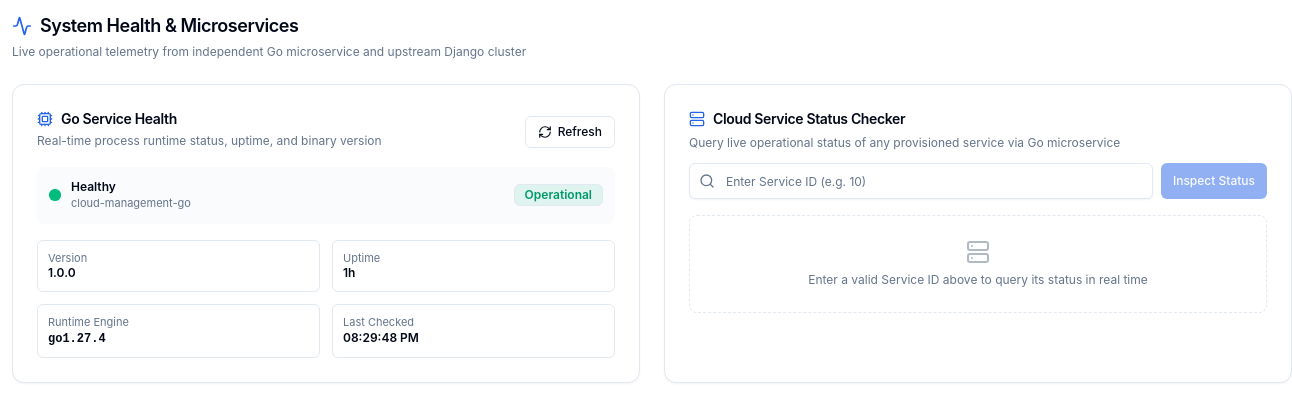
SystemHealthSection Component › handles service lookup error when service is not found
The width and height of the screenshot is (1292, 400).
Expected: the text "cloud-management-go" is shown, [71,195,191,212]
Type "999" into the number field with placeholder "Enter Service ID (e.g. 10)" at [921, 181], box [689,163,1153,199]
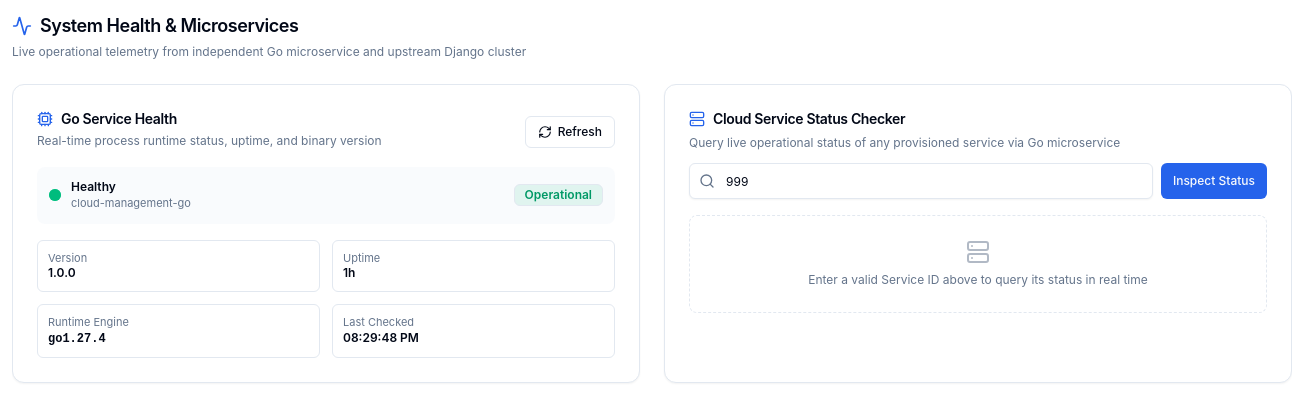
Click the button "Inspect Status" at [1214, 181], box [1161,163,1267,199]
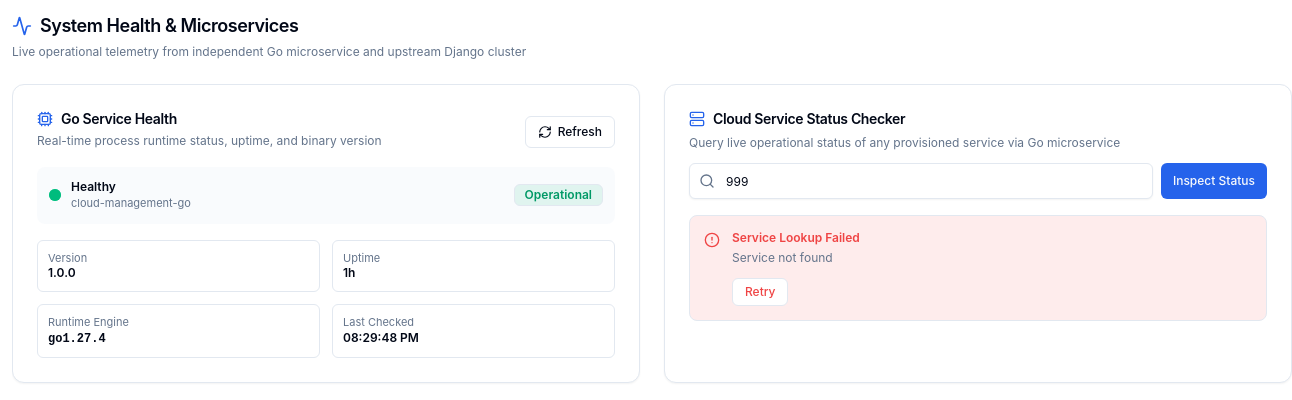
Expected: the text "Service Lookup Failed" is shown, [732,230,860,245]
Expected: the text "Service not found" is shown, [732,250,833,265]
